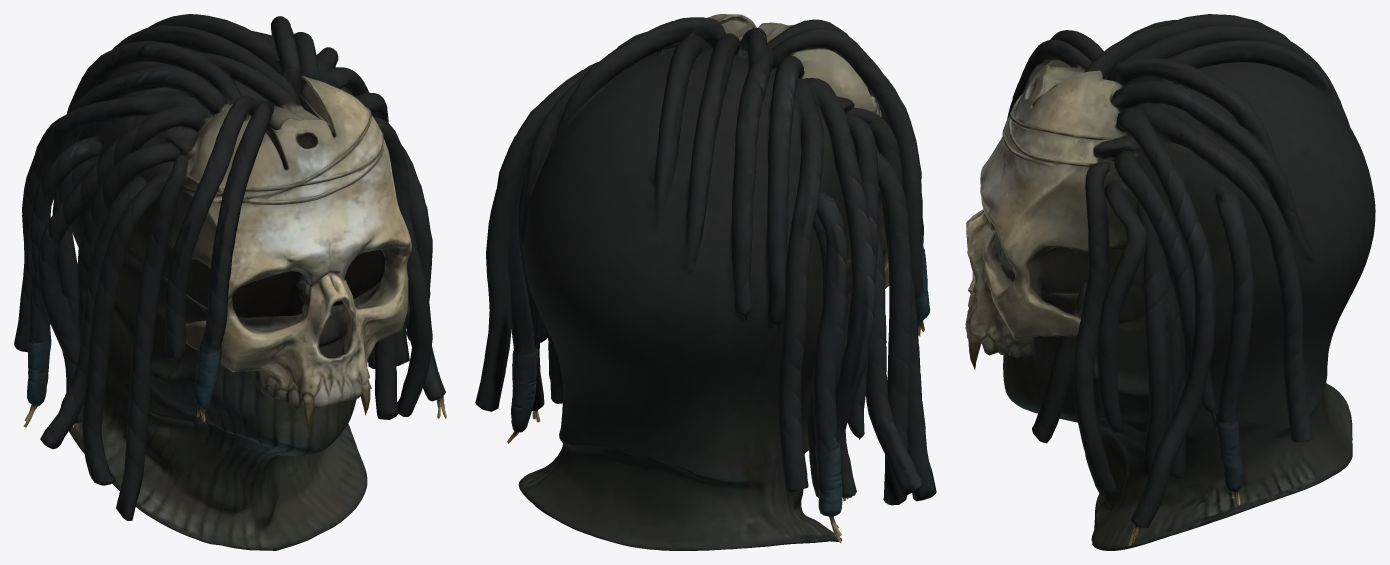
The model's file is helmet-knight.glb.
3 views of the same model, side by side, from view 1: azimuth 30°, elevation 25°; view 2: azimuth 150°, elevation 25°; view 3: azimuth 270°, elevation 25° (orthographic). The views are drawn at different scales.
Visible parts, largest first — view 1: tripo_node_dec74e57-d144-461a-877b-e0eb7f751c4a; view 2: tripo_node_dec74e57-d144-461a-877b-e0eb7f751c4a; view 3: tripo_node_dec74e57-d144-461a-877b-e0eb7f751c4a.
Boxes of the visible parts, bbox=[...] form: tripo_node_dec74e57-d144-461a-877b-e0eb7f751c4a: bbox=[14, 14, 446, 550]; tripo_node_dec74e57-d144-461a-877b-e0eb7f751c4a: bbox=[475, 14, 936, 550]; tripo_node_dec74e57-d144-461a-877b-e0eb7f751c4a: bbox=[965, 14, 1375, 550].
Size of the model in its own units: 0.8105 by 0.9807 by 0.7417.
1 material, 1 textured.
